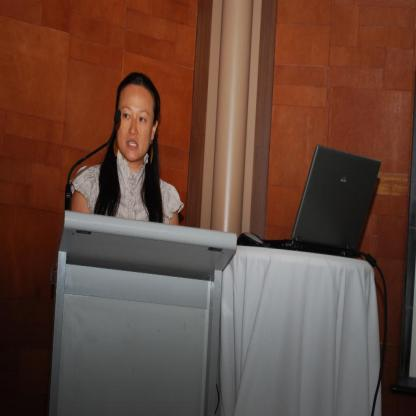board: (263, 148, 381, 257)
